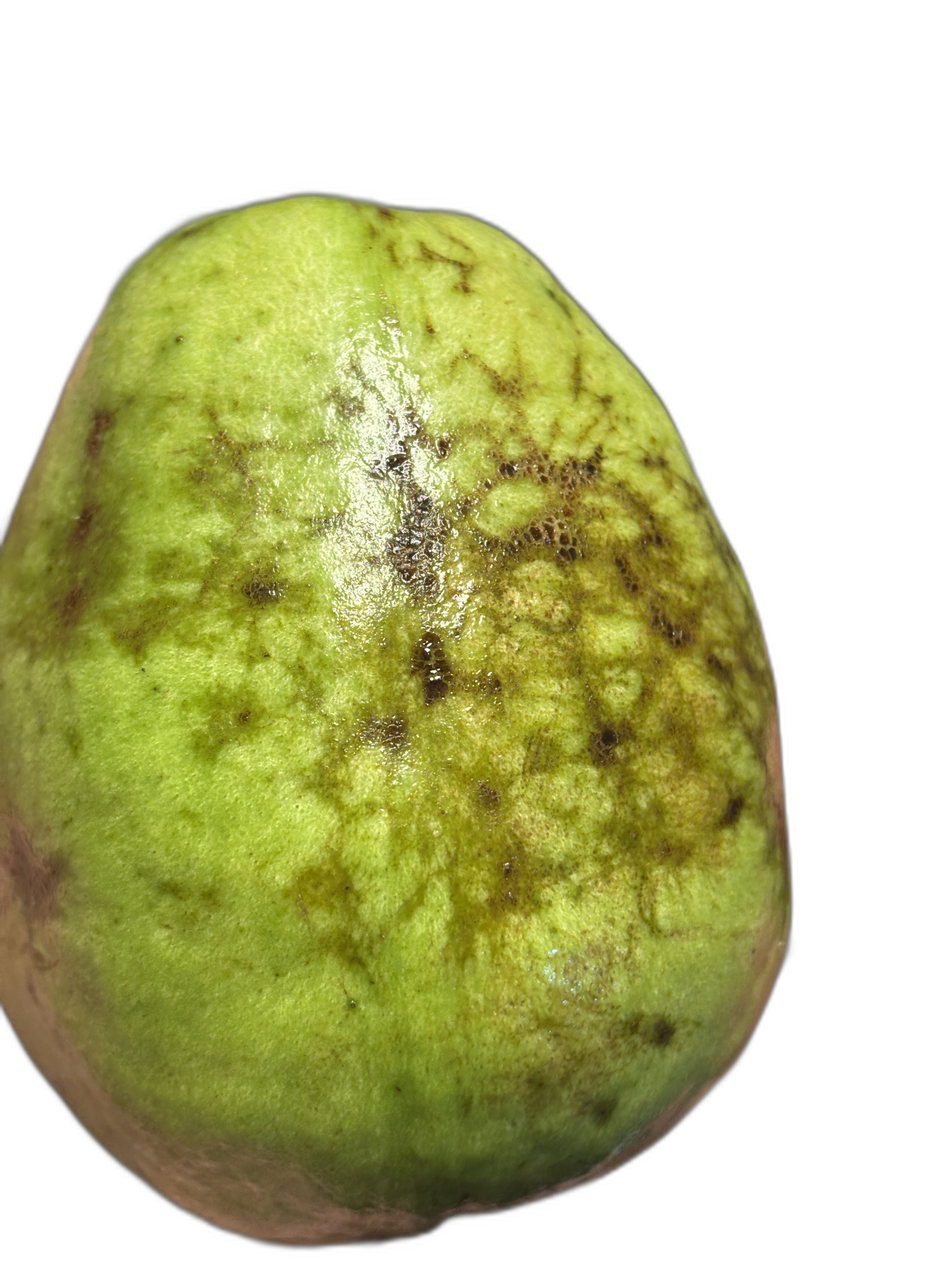guava: (236, 272, 886, 1036)
